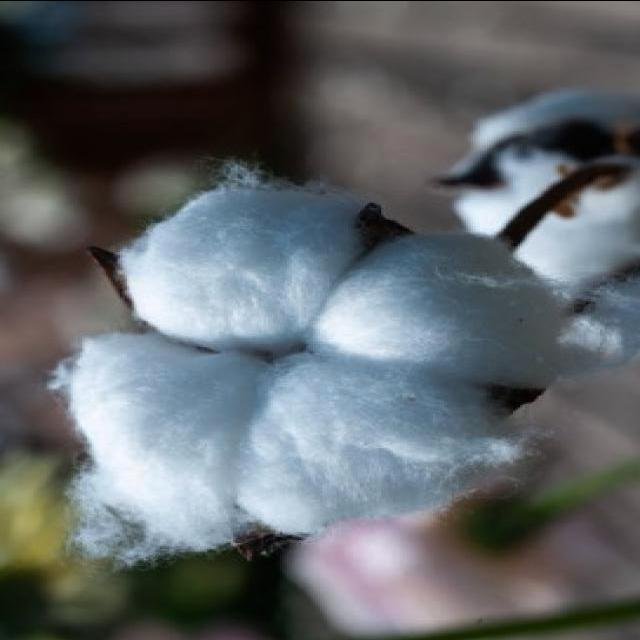Matured Cotton Boll: (73, 180, 528, 524), (456, 103, 640, 309)
